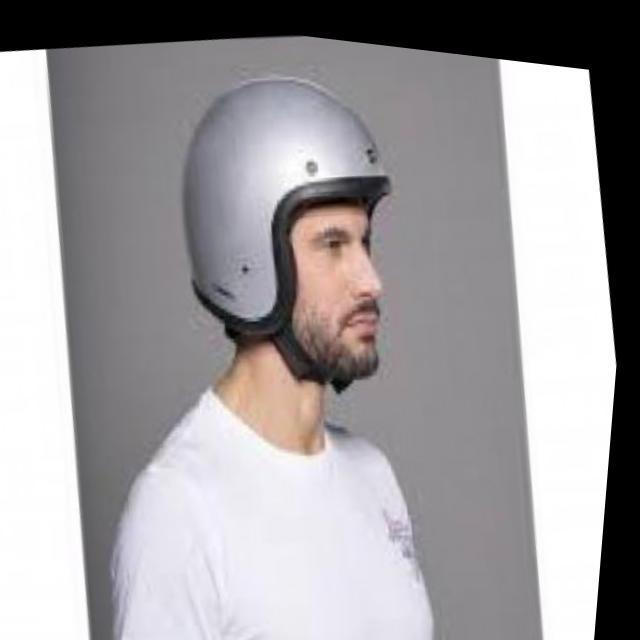Helmet: (170, 68, 410, 396)
